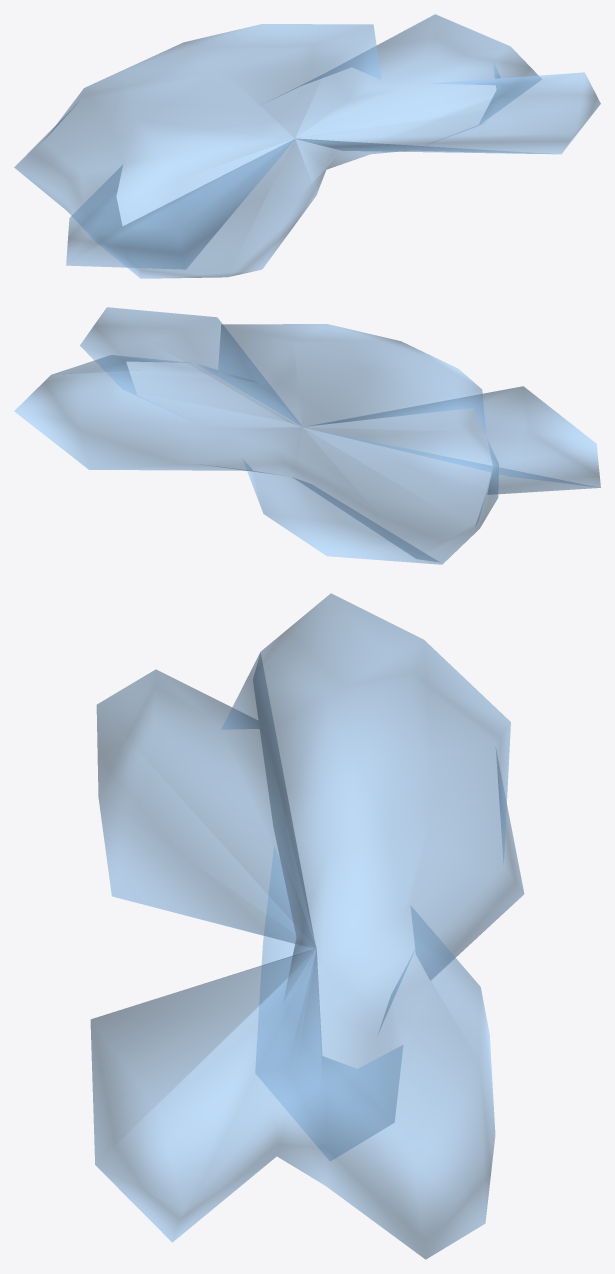
The model's file is theavyind_shield.gltf.
3 renders of one model, top to bottom at view 1: azimuth 30°, elevation 25°; view 2: azimuth 150°, elevation 25°; view 3: azimuth 270°, elevation 25°, orthographic. The views are drawn at different scales.
Parts seen in each view (by area): view 1: theavyind.shield; view 2: theavyind.shield; view 3: theavyind.shield.
Part boxes in pixels (left/top/right/bottom): theavyind.shield: left=14, top=14, right=600, bottom=278; theavyind.shield: left=14, top=307, right=600, bottom=564; theavyind.shield: left=90, top=593, right=524, bottom=1259.
Size of the model in its own units: 41.09 by 17.59 by 14.88.
